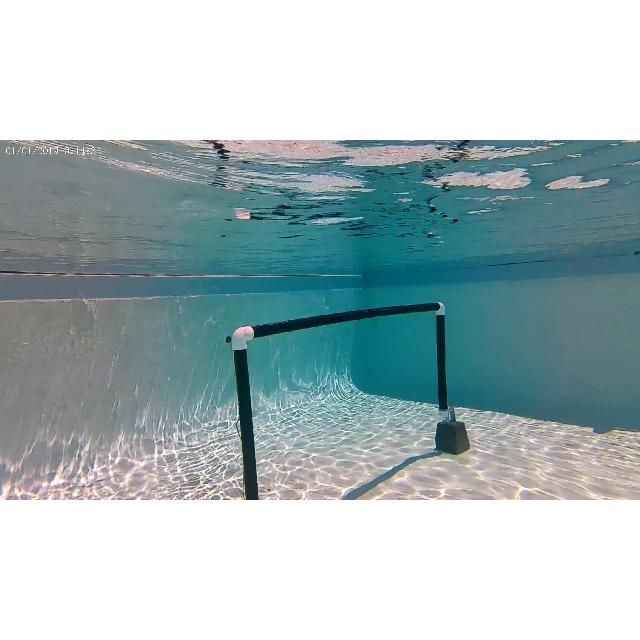prequal gate: (231, 302, 449, 500)
prequal gate leg l: (230, 326, 276, 499)
prequal gate leg r: (426, 299, 469, 456)
